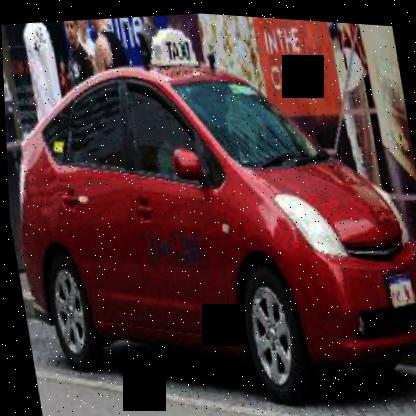not_emergency: (1, 52, 415, 415)
